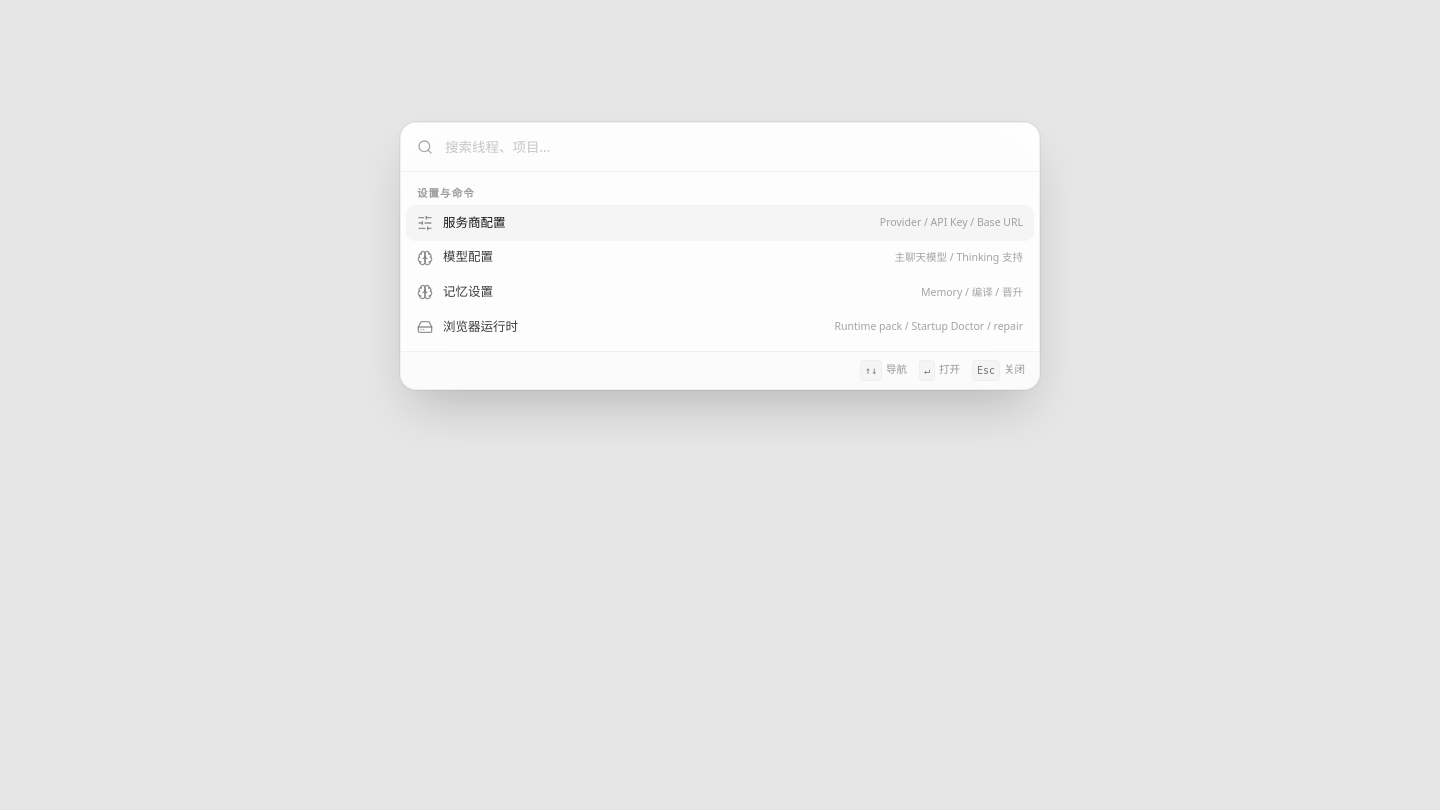
Test: SearchPalette — cross-workspace grouped render › shows an overflow chip when a group has more than 5 hits
In the dropdown with placeholder "搜索线程、项目...": (734, 147) x1=445 y1=136 x2=1023 y2=157, type "hello"
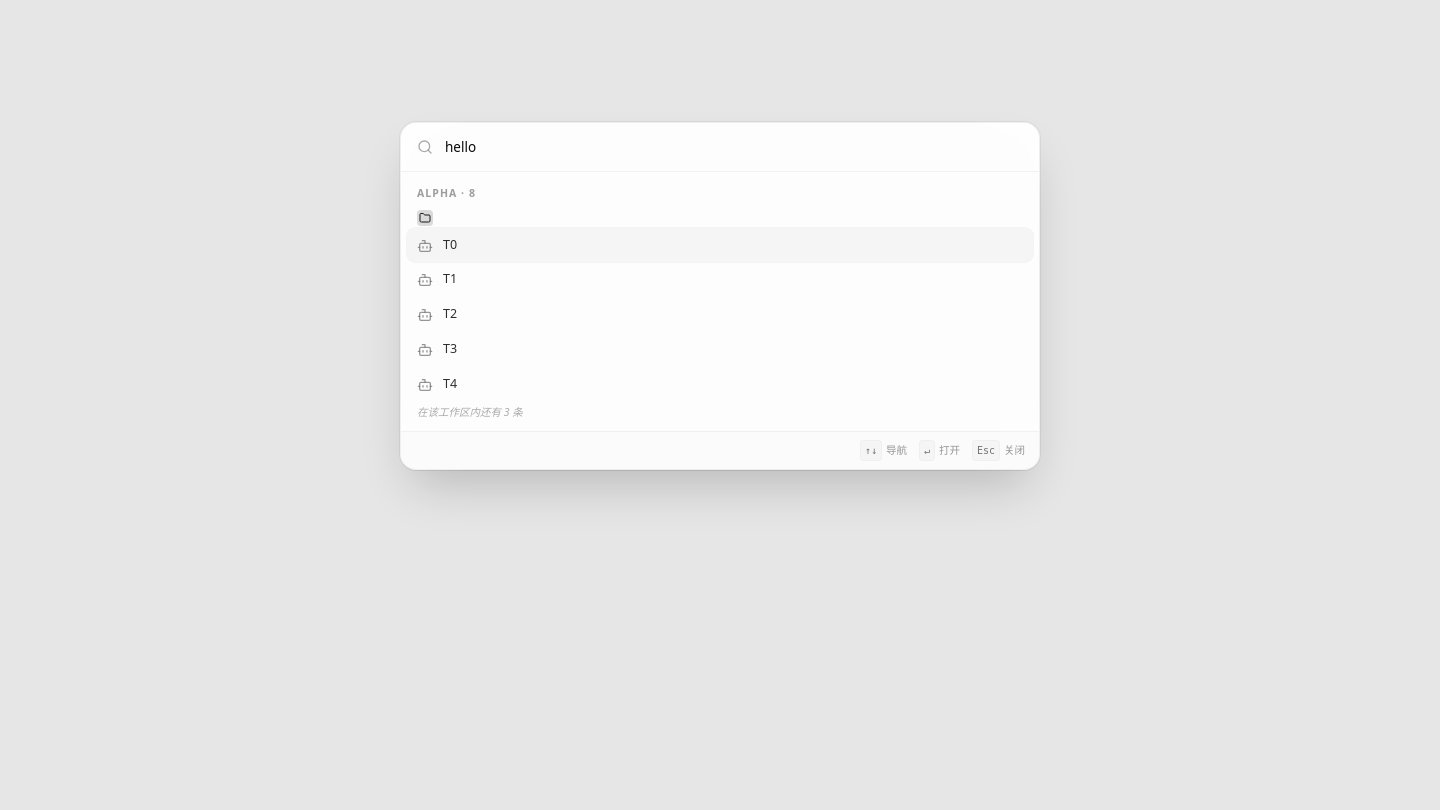
expect the text "Alpha · 8" is shown: met, box x1=417 y1=186 x2=476 y2=200
expect the text "T0" is shown: met, box x1=443 y1=236 x2=457 y2=252
expect the text "T4" is shown: met, box x1=443 y1=374 x2=457 y2=392
